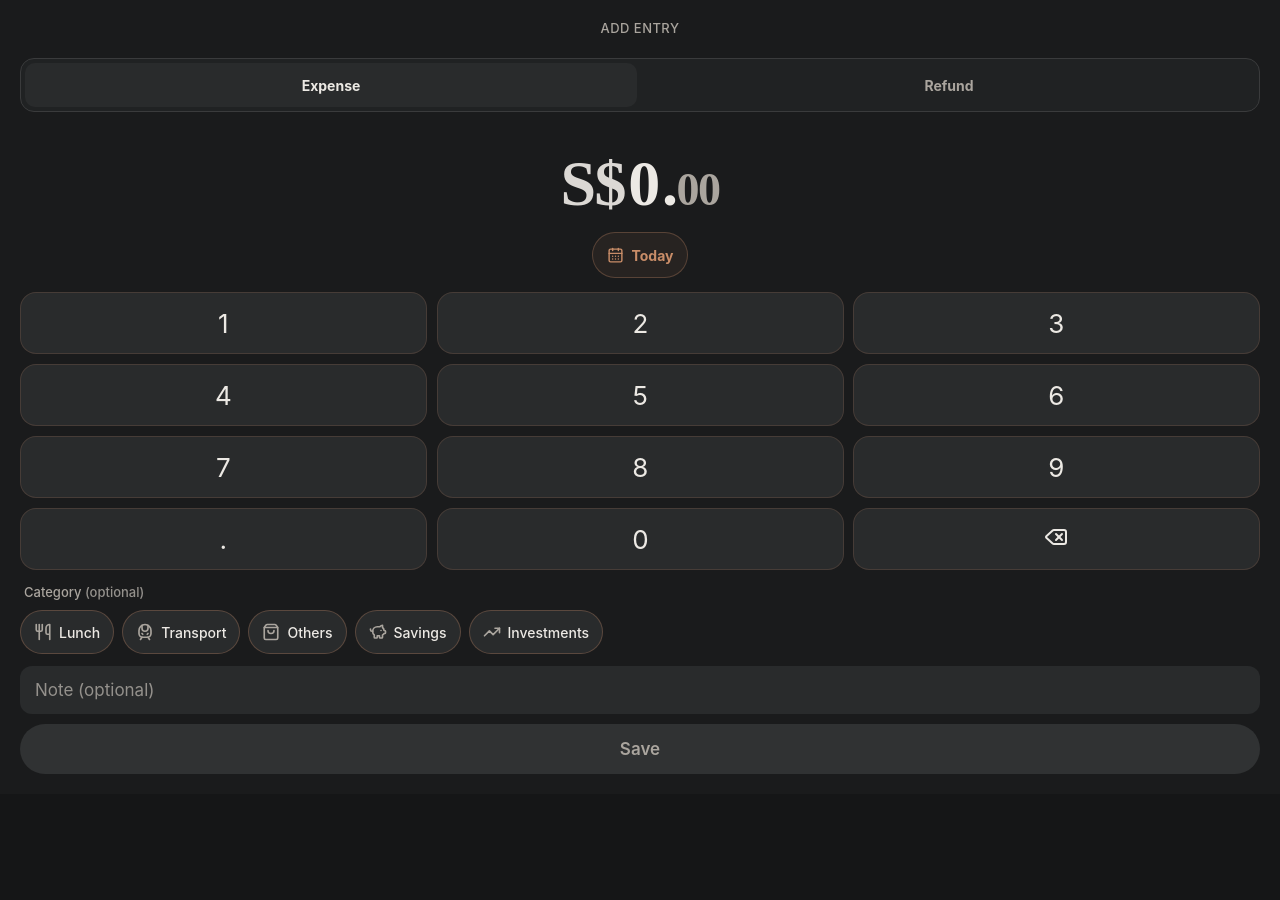
it: AddEntry › save button becomes enabled after entering an amount
The width and height of the screenshot is (1280, 900).
Click the button "5". click: (640, 395)
box: [437,364,843,426]
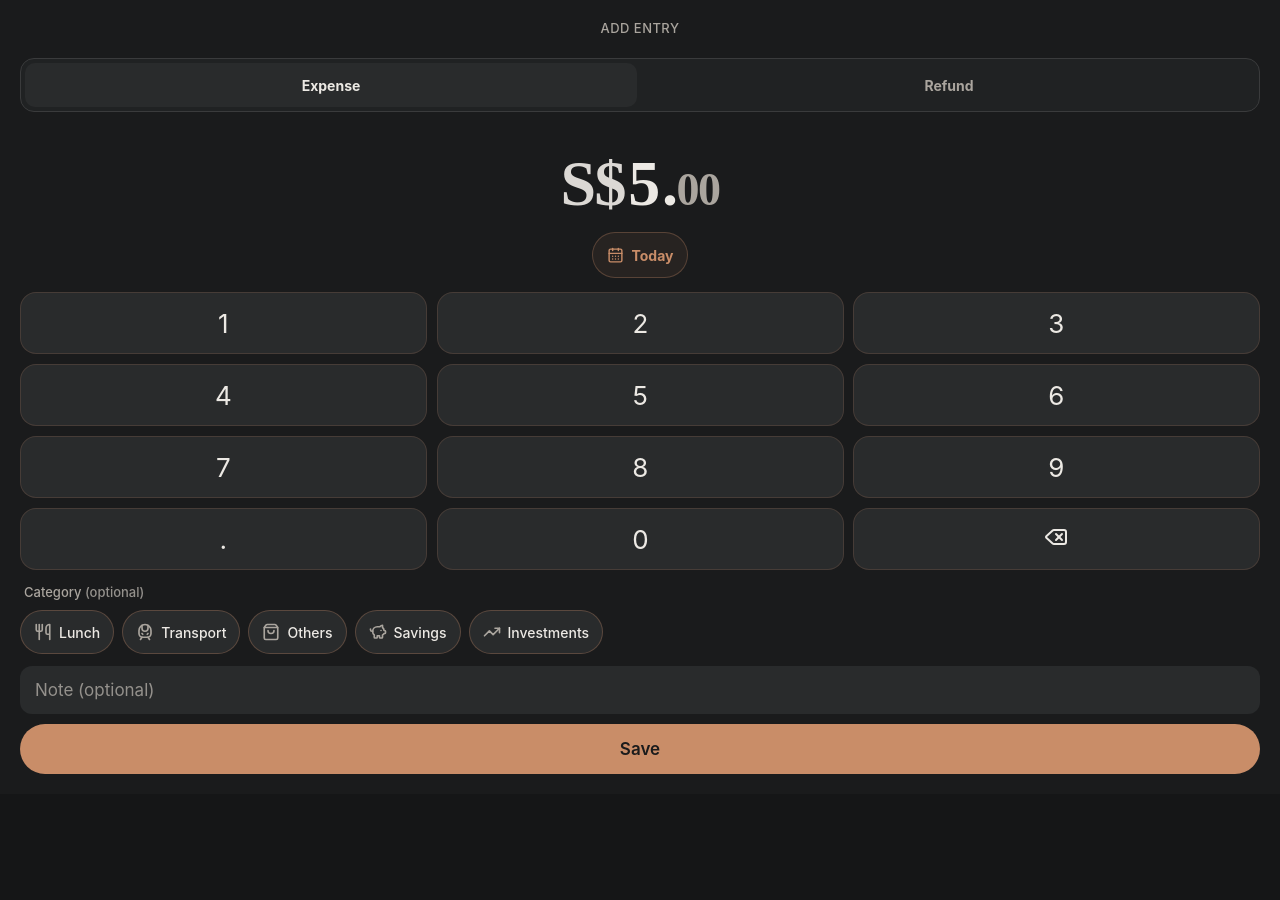
Expected: the button "Save" is enabled, [20,724,1260,774]
